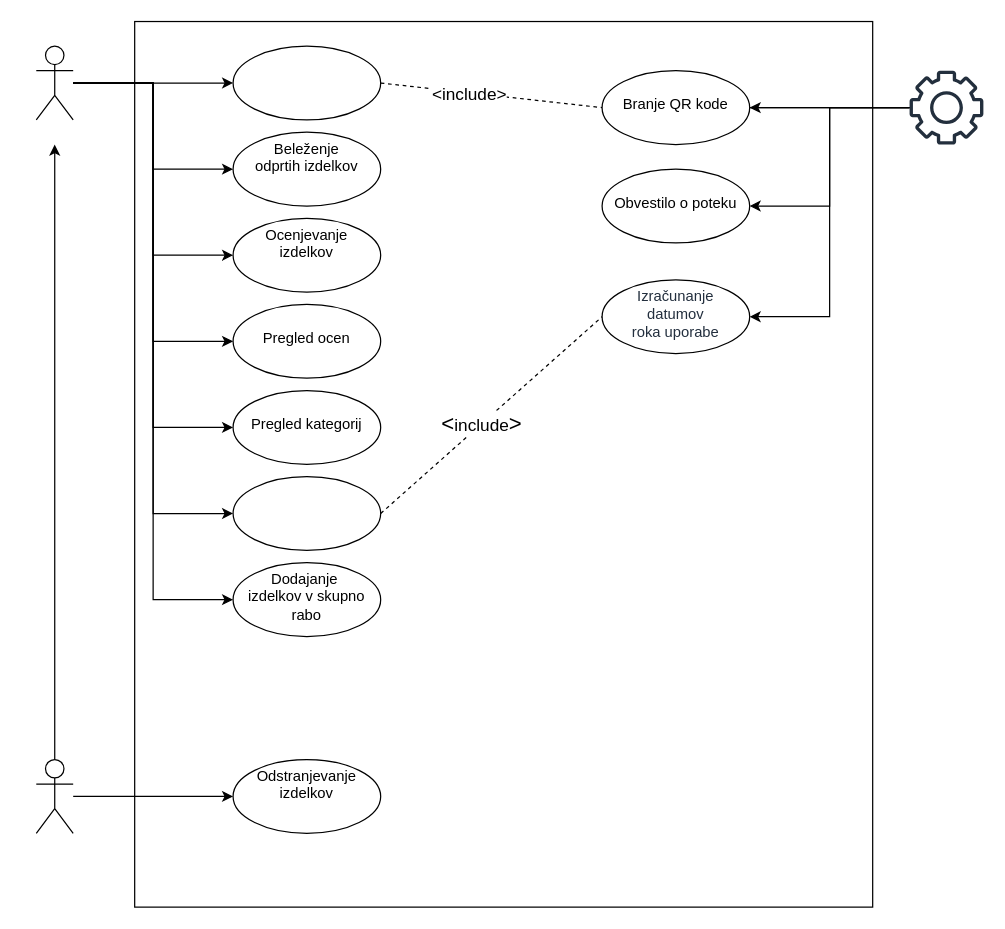
The diagram is 1005 pixels wide and 929 high, and some of its shapes have lost their labels. Here are the shapes that lost their labels. From the top down, the centre of each, then its label:
the point at 54,82: Uporabnik
the point at 306,82: Slikanje QR kode za pridobitev datumov
the point at 946,107: Aplikacija
the point at 306,512: Vnos odprtja izdelka
the point at 54,795: Admin
